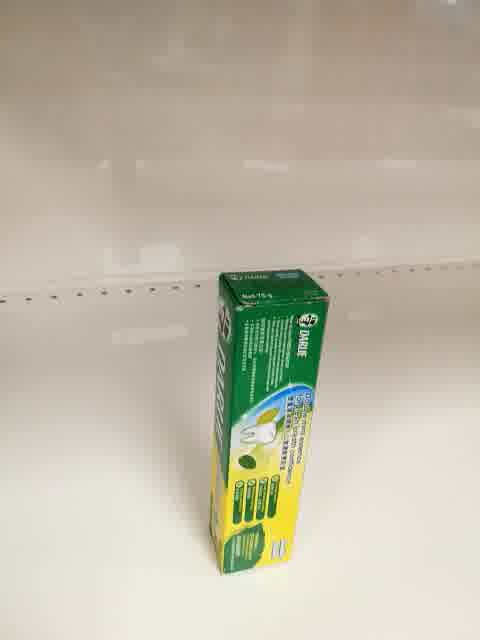toothpaste: (207, 268, 330, 577)
